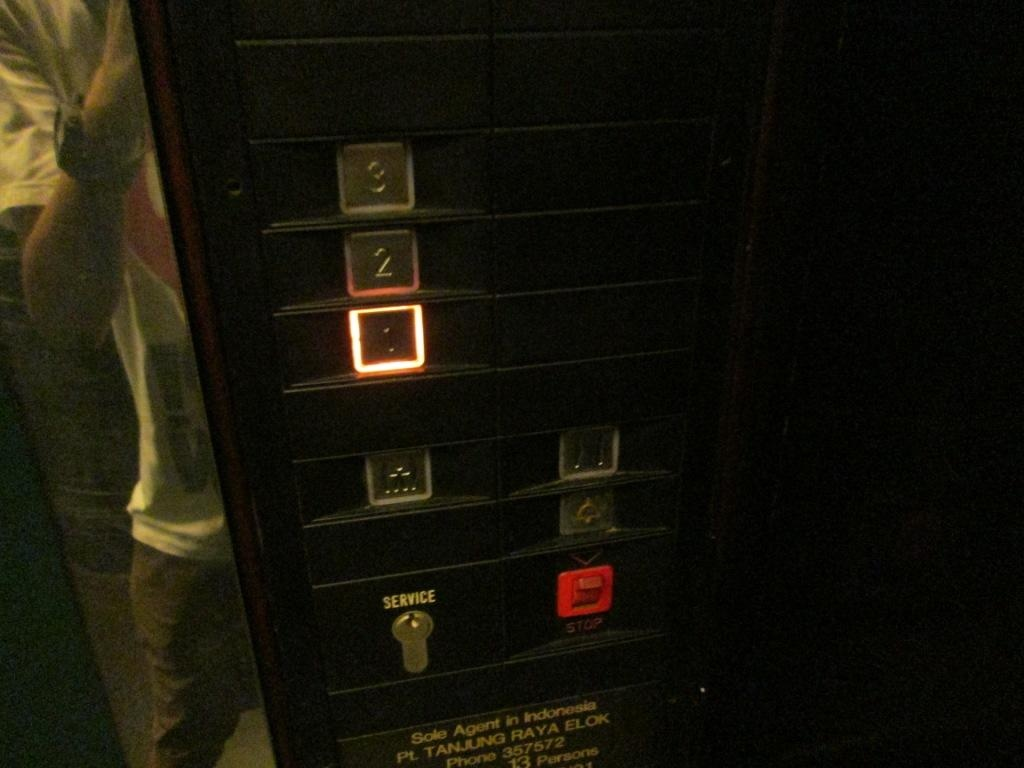1: (347, 303, 425, 378)
2: (341, 229, 419, 297)
3: (334, 140, 418, 216)
alarm: (561, 490, 613, 538)
close: (557, 423, 618, 484)
keyhole: (381, 587, 440, 676)
open: (366, 445, 433, 506)
switch: (556, 566, 613, 621)
